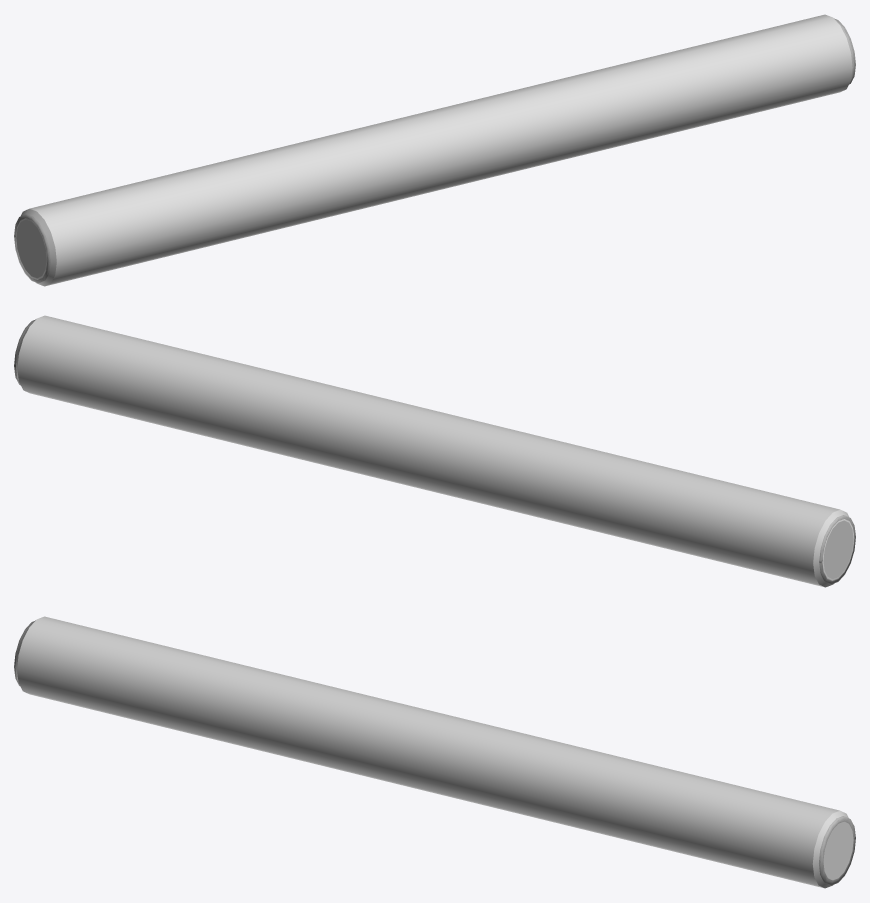
Rendered from s_gm_pipe_concrete_d30.dae.
The picture shows the model from 3 angles, top to bottom: view 1: azimuth 30°, elevation 25°; view 2: azimuth 150°, elevation 25°; view 3: azimuth 330°, elevation 25°; orthographic projection.
Parts seen in each view (by area): view 1: Colmesh_concrete_pipe_d30-1, concrete_pipe_d30_a100; view 2: Colmesh_concrete_pipe_d30-1, concrete_pipe_d30_a100; view 3: Colmesh_concrete_pipe_d30-1, concrete_pipe_d30_a25, concrete_pipe_d30_a100.
Part boxes in pixels (box(x1,y1,x2,y2)): Colmesh_concrete_pipe_d30-1: box(16, 14, 853, 286); concrete_pipe_d30_a100: box(14, 18, 855, 283); Colmesh_concrete_pipe_d30-1: box(16, 315, 853, 587); concrete_pipe_d30_a100: box(14, 319, 855, 584); Colmesh_concrete_pipe_d30-1: box(15, 616, 848, 888); concrete_pipe_d30_a25: box(823, 821, 853, 880); concrete_pipe_d30_a100: box(14, 621, 855, 885).
Size of the model in its own units: 4.01 by 0.3428 by 0.3428.
